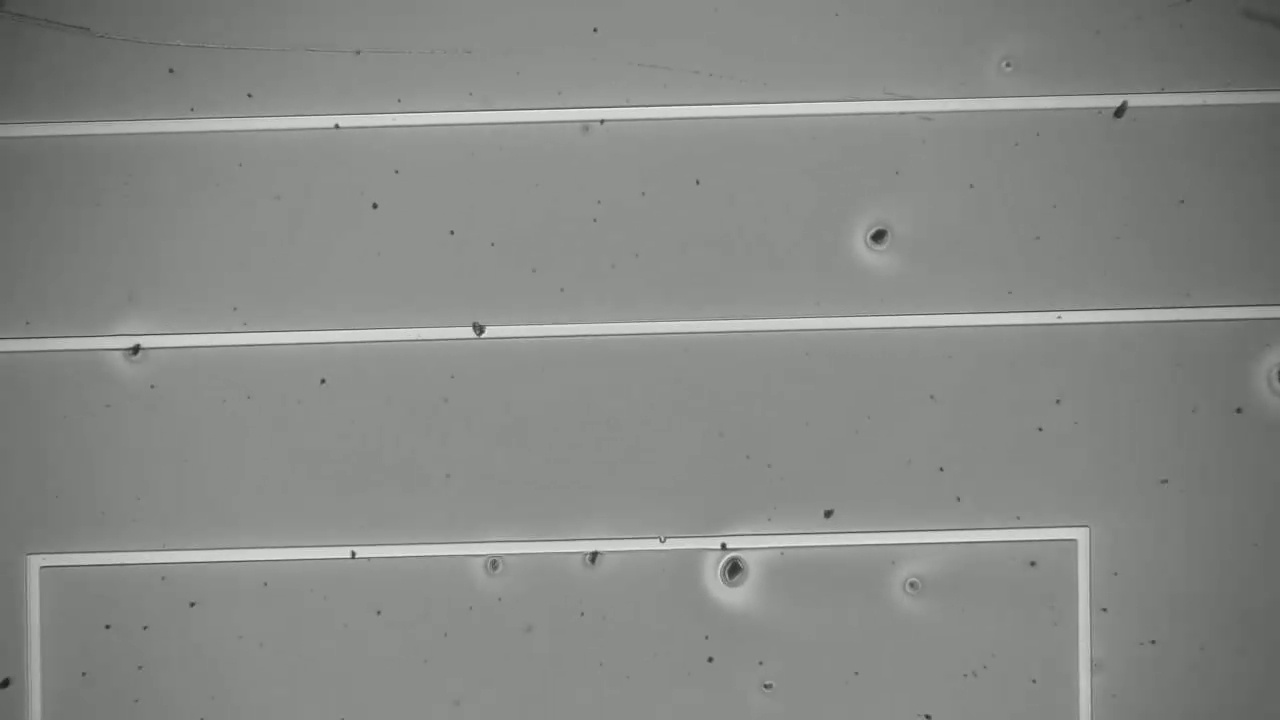edge_bite: (649, 531, 674, 560)
scratch: (0, 1, 177, 53)
stains_enbedded: (120, 322, 150, 364), (1104, 86, 1136, 125), (468, 316, 491, 343), (344, 541, 363, 564), (719, 527, 733, 553)
